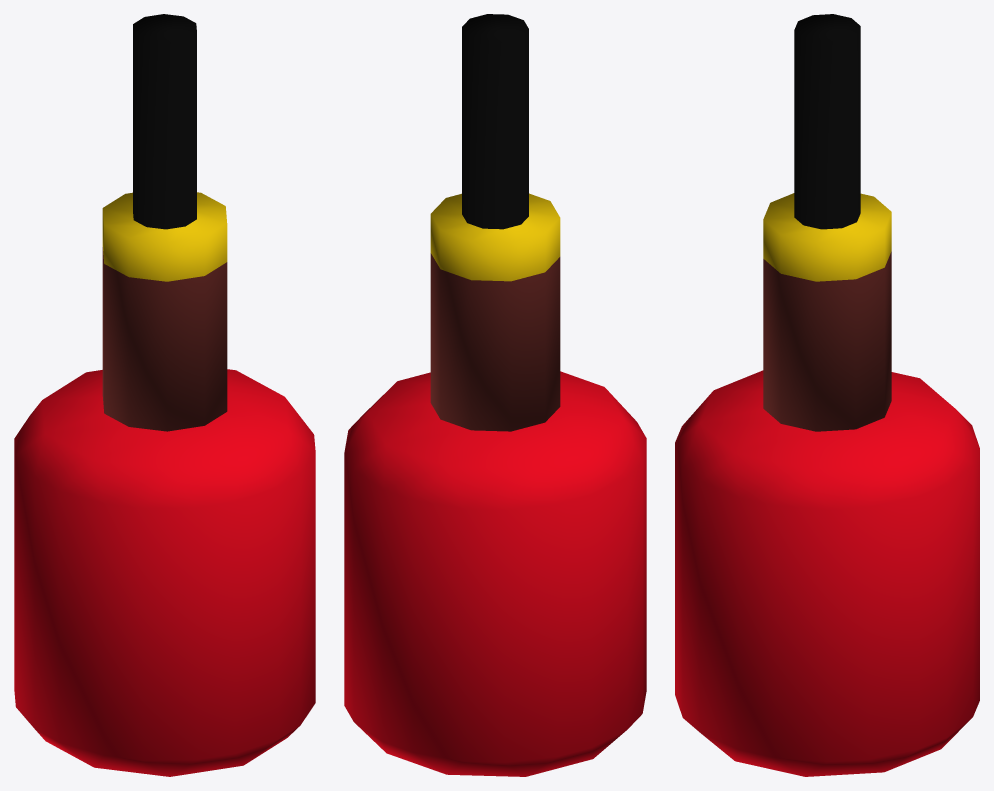
File: martilloRojoShadeSmoothnoBrillo.fbx
3 renders of one model, left to right at view 1: azimuth 30°, elevation 25°; view 2: azimuth 150°, elevation 25°; view 3: azimuth 270°, elevation 25°, orthographic.
Parts seen in each view (by area): view 1: Cylinder.001, Cylinder; view 2: Cylinder.001, Cylinder; view 3: Cylinder.001, Cylinder.
Boxes of the visible parts, x1,y1,x2,y2 form: Cylinder.001: [14, 369, 315, 776]; Cylinder: [102, 14, 227, 431]; Cylinder.001: [344, 371, 646, 776]; Cylinder: [430, 14, 560, 431]; Cylinder.001: [675, 370, 979, 776]; Cylinder: [763, 14, 891, 431].
Bounding box in the file's own units: 140 × 356 × 141.
